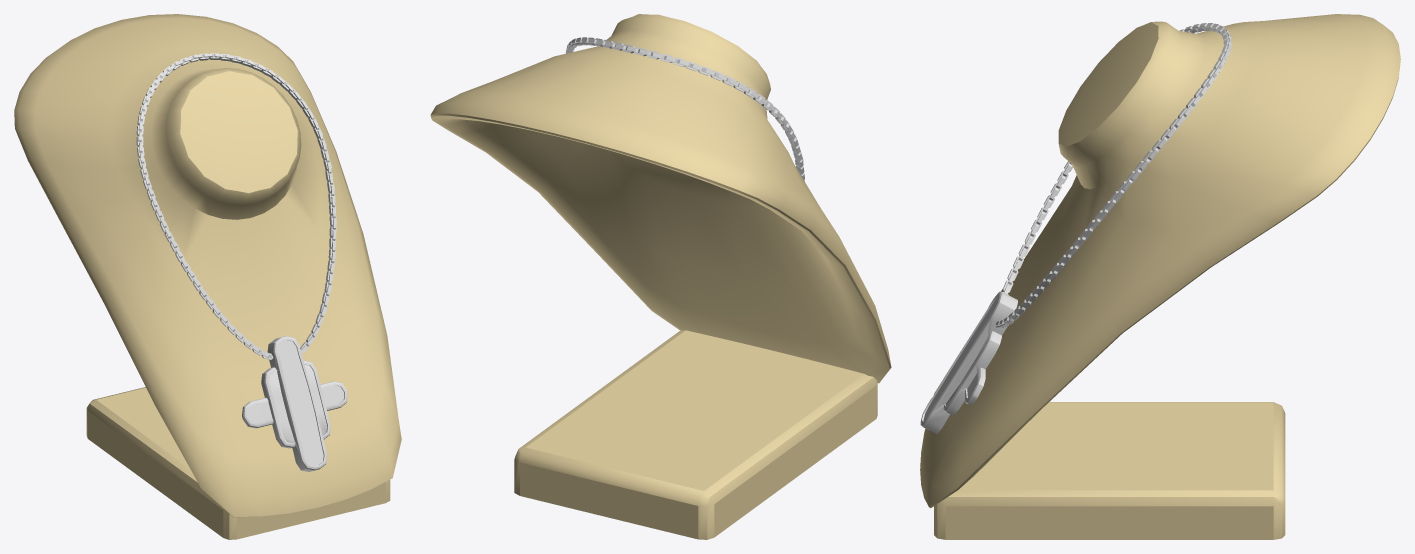
File: Necklace_17.fbx
3 renders of one model, left to right at view 1: azimuth 30°, elevation 25°; view 2: azimuth 150°, elevation 25°; view 3: azimuth 270°, elevation 25°, orthographic. The views are drawn at different scales.
Visible parts, largest first — view 1: SM_Stand_Necklace_10, SM_Cullon_5, SM_Necklace_11; view 2: SM_Stand_Necklace_10, SM_Necklace_11; view 3: SM_Stand_Necklace_10, SM_Necklace_11, SM_Cullon_5.
Part boxes in pixels (x1=…): SM_Stand_Necklace_10: x1=14, y1=14, x2=401, y2=539; SM_Cullon_5: x1=242, y1=336, x2=347, y2=471; SM_Necklace_11: x1=136, y1=53, x2=336, y2=359; SM_Stand_Necklace_10: x1=430, y1=14, x2=891, y2=539; SM_Necklace_11: x1=565, y1=37, x2=804, y2=181; SM_Stand_Necklace_10: x1=920, y1=14, x2=1400, y2=539; SM_Necklace_11: x1=996, y1=23, x2=1232, y2=328; SM_Cullon_5: x1=920, y1=291, x2=1017, y2=434.
Size of the model in its own units: 22.51 by 29.29 by 27.78.
